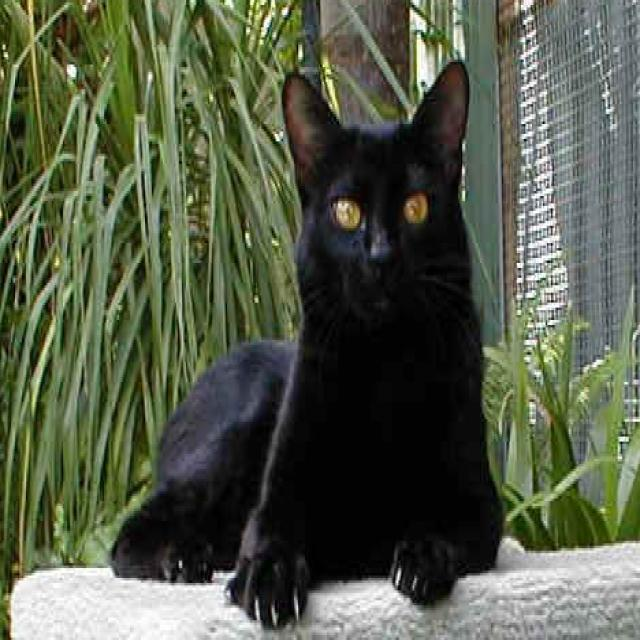Bombay: (108, 58, 508, 631)
